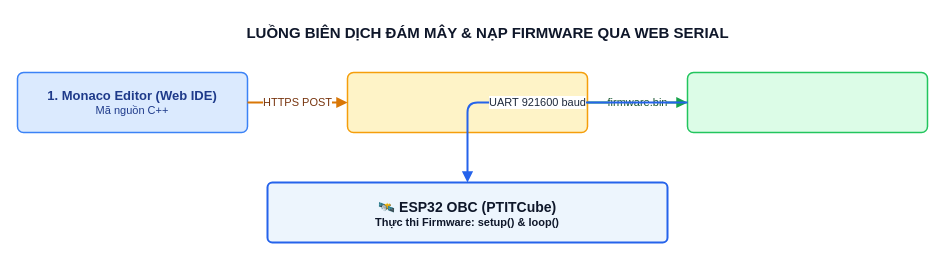
The diagram is 946 pixels wide and 260 high, and some of its shapes have lost their labels. The box of each missing label's shape, as (x1, y1, x2, y2) in pixels:
2. Cloud Compiler GCC Xtensa / PlatformIO: (346, 71, 588, 133)
3. Web Serial API Mạch nạp CH340 / CP2102: (686, 71, 928, 133)
